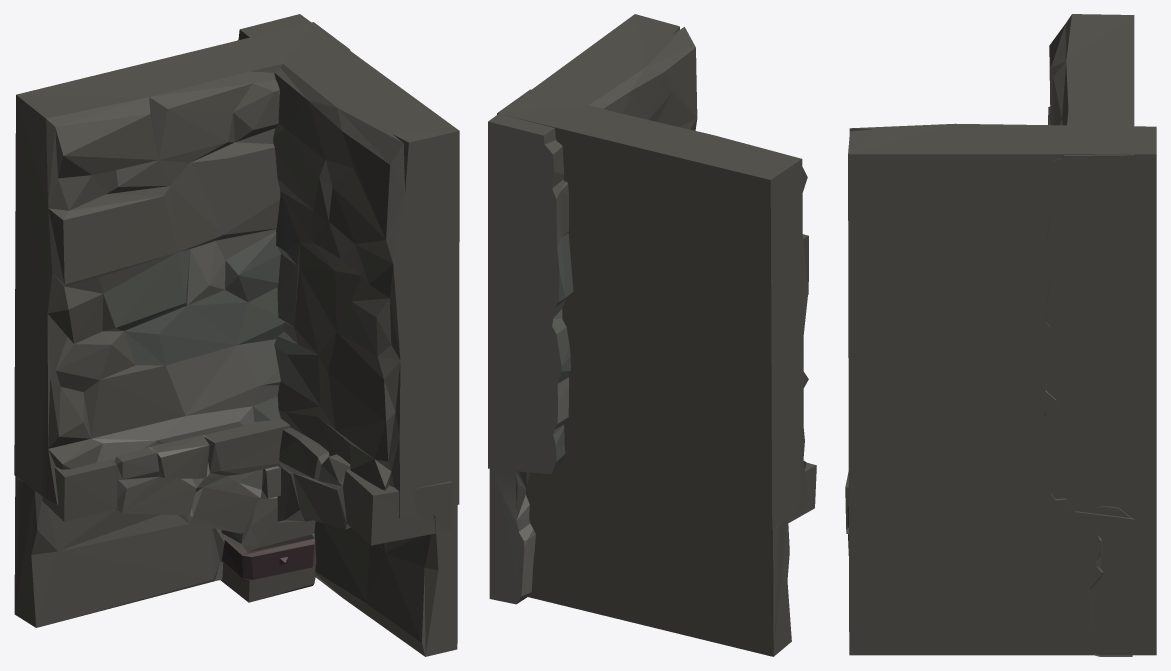
Rendered from MDungeons_Walls_Arch_Low_Corner.FBX.
The picture shows the model from 3 angles, left to right: view 1: azimuth 30°, elevation 25°; view 2: azimuth 150°, elevation 25°; view 3: azimuth 270°, elevation 25°; orthographic projection. The views are drawn at different scales.
Parts seen in each view (by area): view 1: MDungeons_Walls_Arch_Low_Corner_LOD0; view 2: MDungeons_Walls_Arch_Low_Corner_LOD0; view 3: MDungeons_Walls_Arch_Low_Corner_LOD0.
Boxes of the visible parts, bbox=[...] form: MDungeons_Walls_Arch_Low_Corner_LOD0: bbox=[14, 14, 459, 656]; MDungeons_Walls_Arch_Low_Corner_LOD0: bbox=[488, 14, 816, 656]; MDungeons_Walls_Arch_Low_Corner_LOD0: bbox=[845, 14, 1156, 656].
Size of what is drawn, in the model's own units: 3.63 by 6.01 by 3.36.
